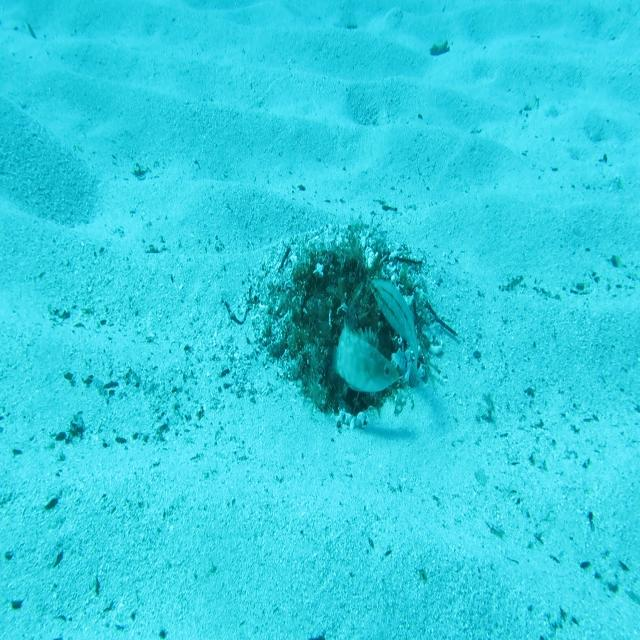DAN_CIRC: (329, 304, 400, 394)
core_nest: (322, 260, 368, 312)
female: (368, 274, 422, 394)
nest: (238, 203, 458, 445)
vegetation: (429, 36, 450, 62)
